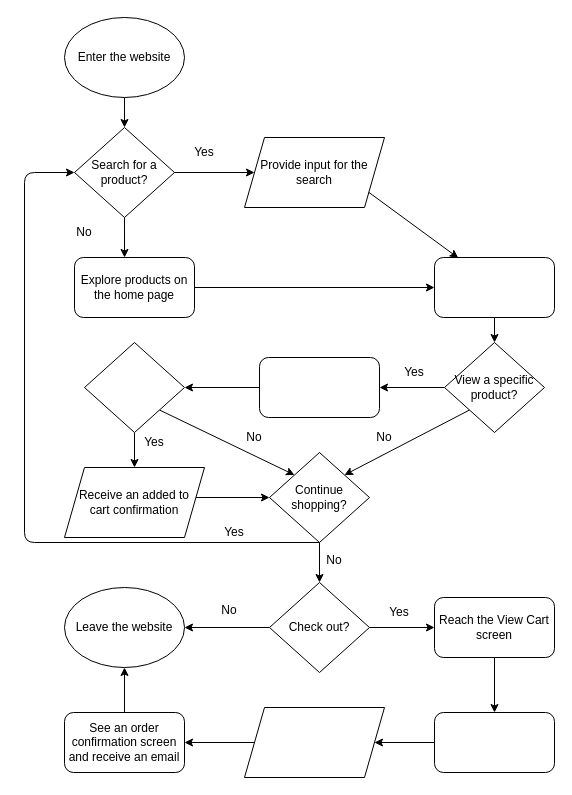
Image size: 572x795. Some labels were removed from this diagram. The shapes that lost their labels are listed below. From the top down, each one's centre as x and y in pixels, then its label:
At point (494, 287): "Look over the products".
At point (134, 387): "Add the item to cart?".
At point (319, 387): "Open product's webpage".
At point (314, 742): "Give input of the payment information".
At point (494, 742): "Reach the View Payment screen".
